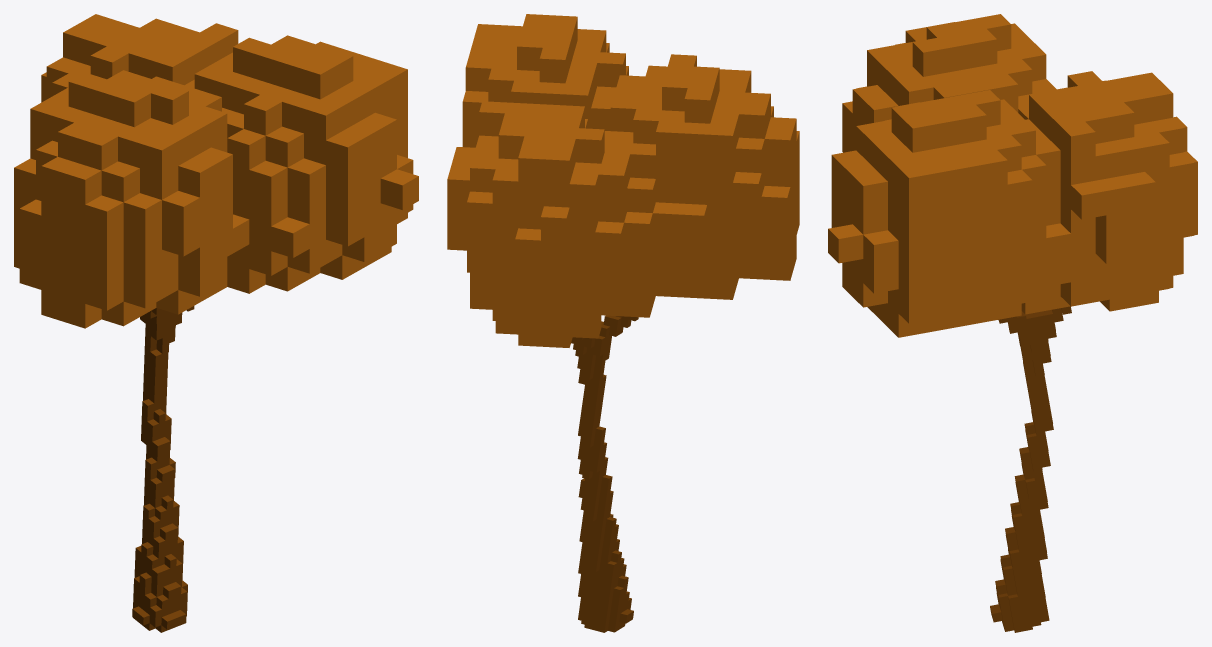
File: Voxeltree_03_orange.glb
3 views of the same model, side by side, from view 1: azimuth 30°, elevation 25°; view 2: azimuth 150°, elevation 25°; view 3: azimuth 270°, elevation 25° (orthographic). The views are drawn at different scales.
Visible parts, largest first — view 1: Voxeltree_03_orange_Wood_0; view 2: Voxeltree_03_orange_Wood_0; view 3: Voxeltree_03_orange_Wood_0.
Part boxes in pixels (bbox=[...]): Voxeltree_03_orange_Wood_0: bbox=[14, 14, 418, 632]; Voxeltree_03_orange_Wood_0: bbox=[447, 14, 799, 632]; Voxeltree_03_orange_Wood_0: bbox=[828, 14, 1197, 632].
Bounding box in the file's own units: 6.49 × 9.95 × 5.93.
